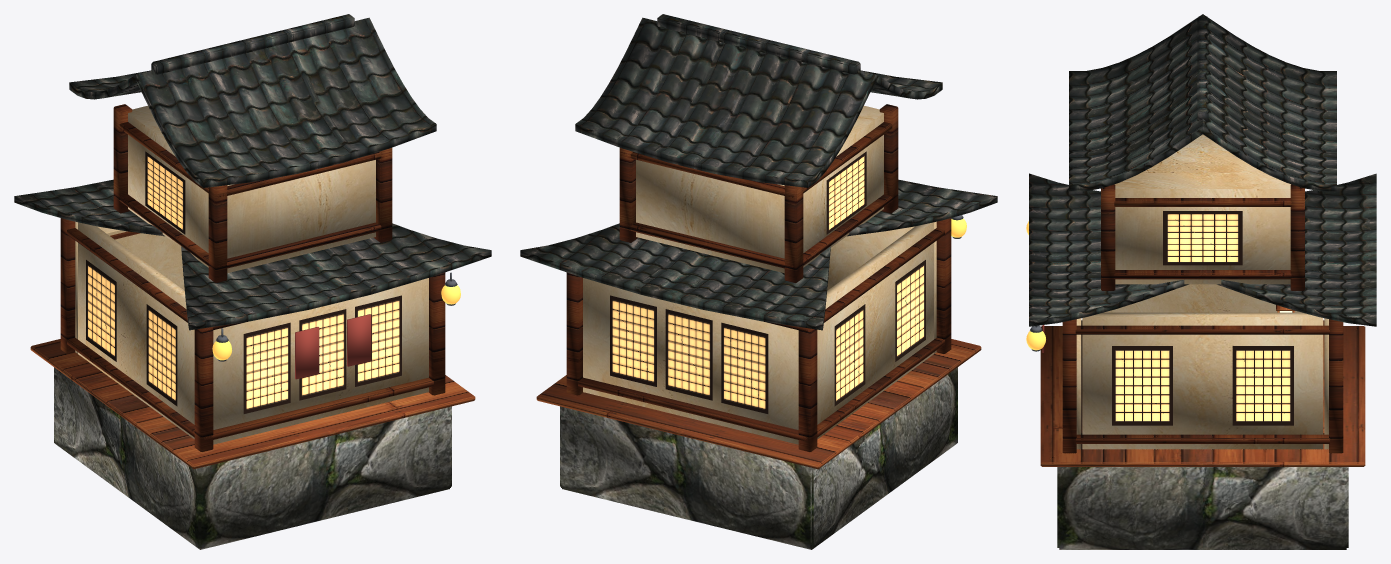
File: teahouse_hero_v1.glb
The picture shows the model from 3 angles, left to right: view 1: azimuth 30°, elevation 25°; view 2: azimuth 150°, elevation 25°; view 3: azimuth 270°, elevation 25°; orthographic projection.
Parts seen in each view (by area): view 1: peek_roof_kawara, exterior_stone, exterior_plaster, exterior_shoji, peek_upper_plaster, exterior_charred, exterior_cedar, peek_upper_charred, exterior_noren, peek_upper_shoji, interior_room_walls, exterior_chochin; view 2: peek_roof_kawara, exterior_stone, exterior_plaster, exterior_shoji, peek_upper_plaster, exterior_charred, exterior_cedar, peek_upper_charred, peek_upper_shoji; view 3: peek_roof_kawara, exterior_stone, exterior_plaster, peek_upper_plaster, exterior_cedar, exterior_shoji, exterior_charred, peek_upper_charred, peek_upper_shoji, interior_room_walls.
Part boxes in pixels (<box>): peek_roof_kawara: <box>14,14,491,330</box>; exterior_stone: <box>54,367,451,549</box>; exterior_plaster: <box>75,221,428,444</box>; exterior_shoji: <box>86,260,401,413</box>; peek_upper_plaster: <box>128,105,375,273</box>; exterior_charred: <box>60,218,445,451</box>; exterior_cedar: <box>30,339,475,469</box>; peek_upper_charred: <box>113,104,392,282</box>; exterior_noren: <box>295,314,371,379</box>; peek_upper_shoji: <box>145,151,185,234</box>; interior_room_walls: <box>105,229,184,290</box>; exterior_chochin: <box>212,285,460,360</box>; peek_roof_kawara: <box>520,14,997,330</box>; exterior_stone: <box>560,367,957,549</box>; exterior_plaster: <box>583,221,936,444</box>; exterior_shoji: <box>610,260,925,413</box>; peek_upper_plaster: <box>636,105,883,273</box>; exterior_charred: <box>566,218,951,451</box>; exterior_cedar: <box>536,339,981,469</box>; peek_upper_charred: <box>619,104,898,282</box>; peek_upper_shoji: <box>826,151,866,234</box>; peek_roof_kawara: <box>1029,14,1376,326</box>; exterior_stone: <box>1057,467,1348,549</box>; exterior_plaster: <box>1076,312,1328,449</box>; peek_upper_plaster: <box>1114,134,1290,284</box>; exterior_cedar: <box>1040,326,1365,466</box>; exterior_shoji: <box>1112,346,1293,425</box>; exterior_charred: <box>1062,319,1343,453</box>; peek_upper_charred: <box>1101,184,1304,290</box>; peek_upper_shoji: <box>1163,211,1242,265</box>; interior_room_walls: <box>1104,284,1301,312</box>.
Size of the model in its own units: 4.89 by 6.6 by 4.93.
Materials: 16 (9 with a texture image).
